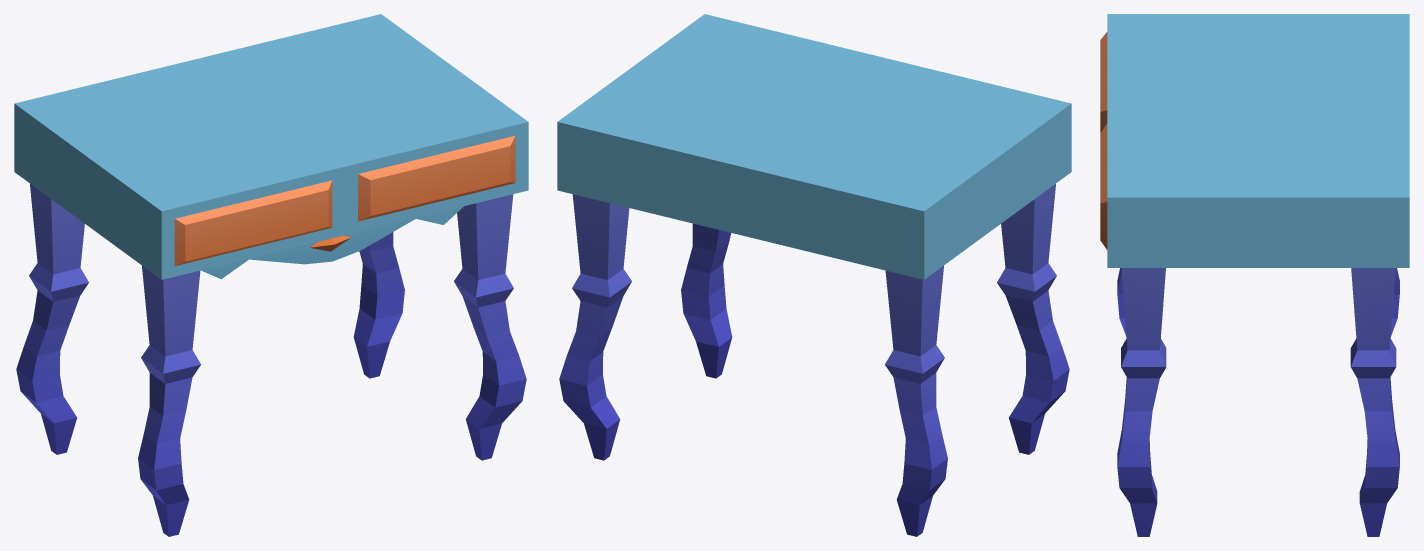
The model's file is desk.fbx.
The picture shows the model from 3 angles, left to right: view 1: azimuth 30°, elevation 25°; view 2: azimuth 150°, elevation 25°; view 3: azimuth 270°, elevation 25°; orthographic projection. The views are drawn at different scales.
Visible parts, largest first — view 1: desk; view 2: desk; view 3: desk.
Boxes of the visible parts, x1,y1,x2,y2 form: desk: [14, 14, 528, 536]; desk: [557, 14, 1071, 536]; desk: [1100, 14, 1409, 536].
Bounding box in the file's own units: 84.91 × 74.41 × 59.56.
